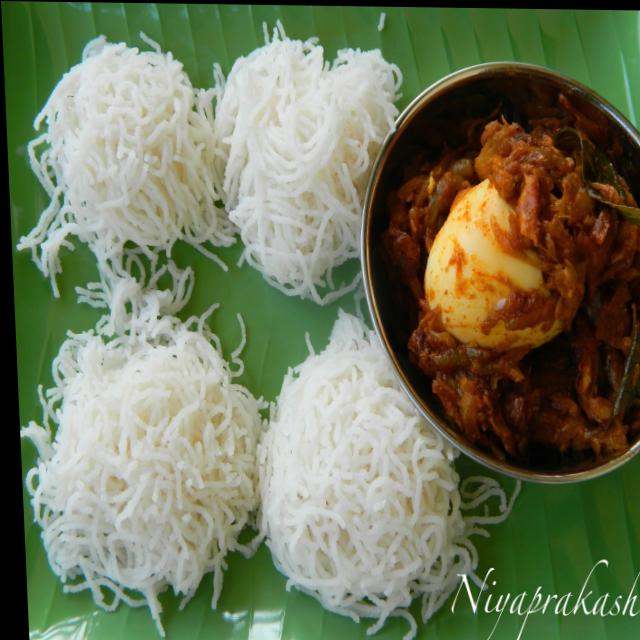EGG: (377, 112, 640, 464)
IDIYAPPAM: (18, 31, 494, 626)
